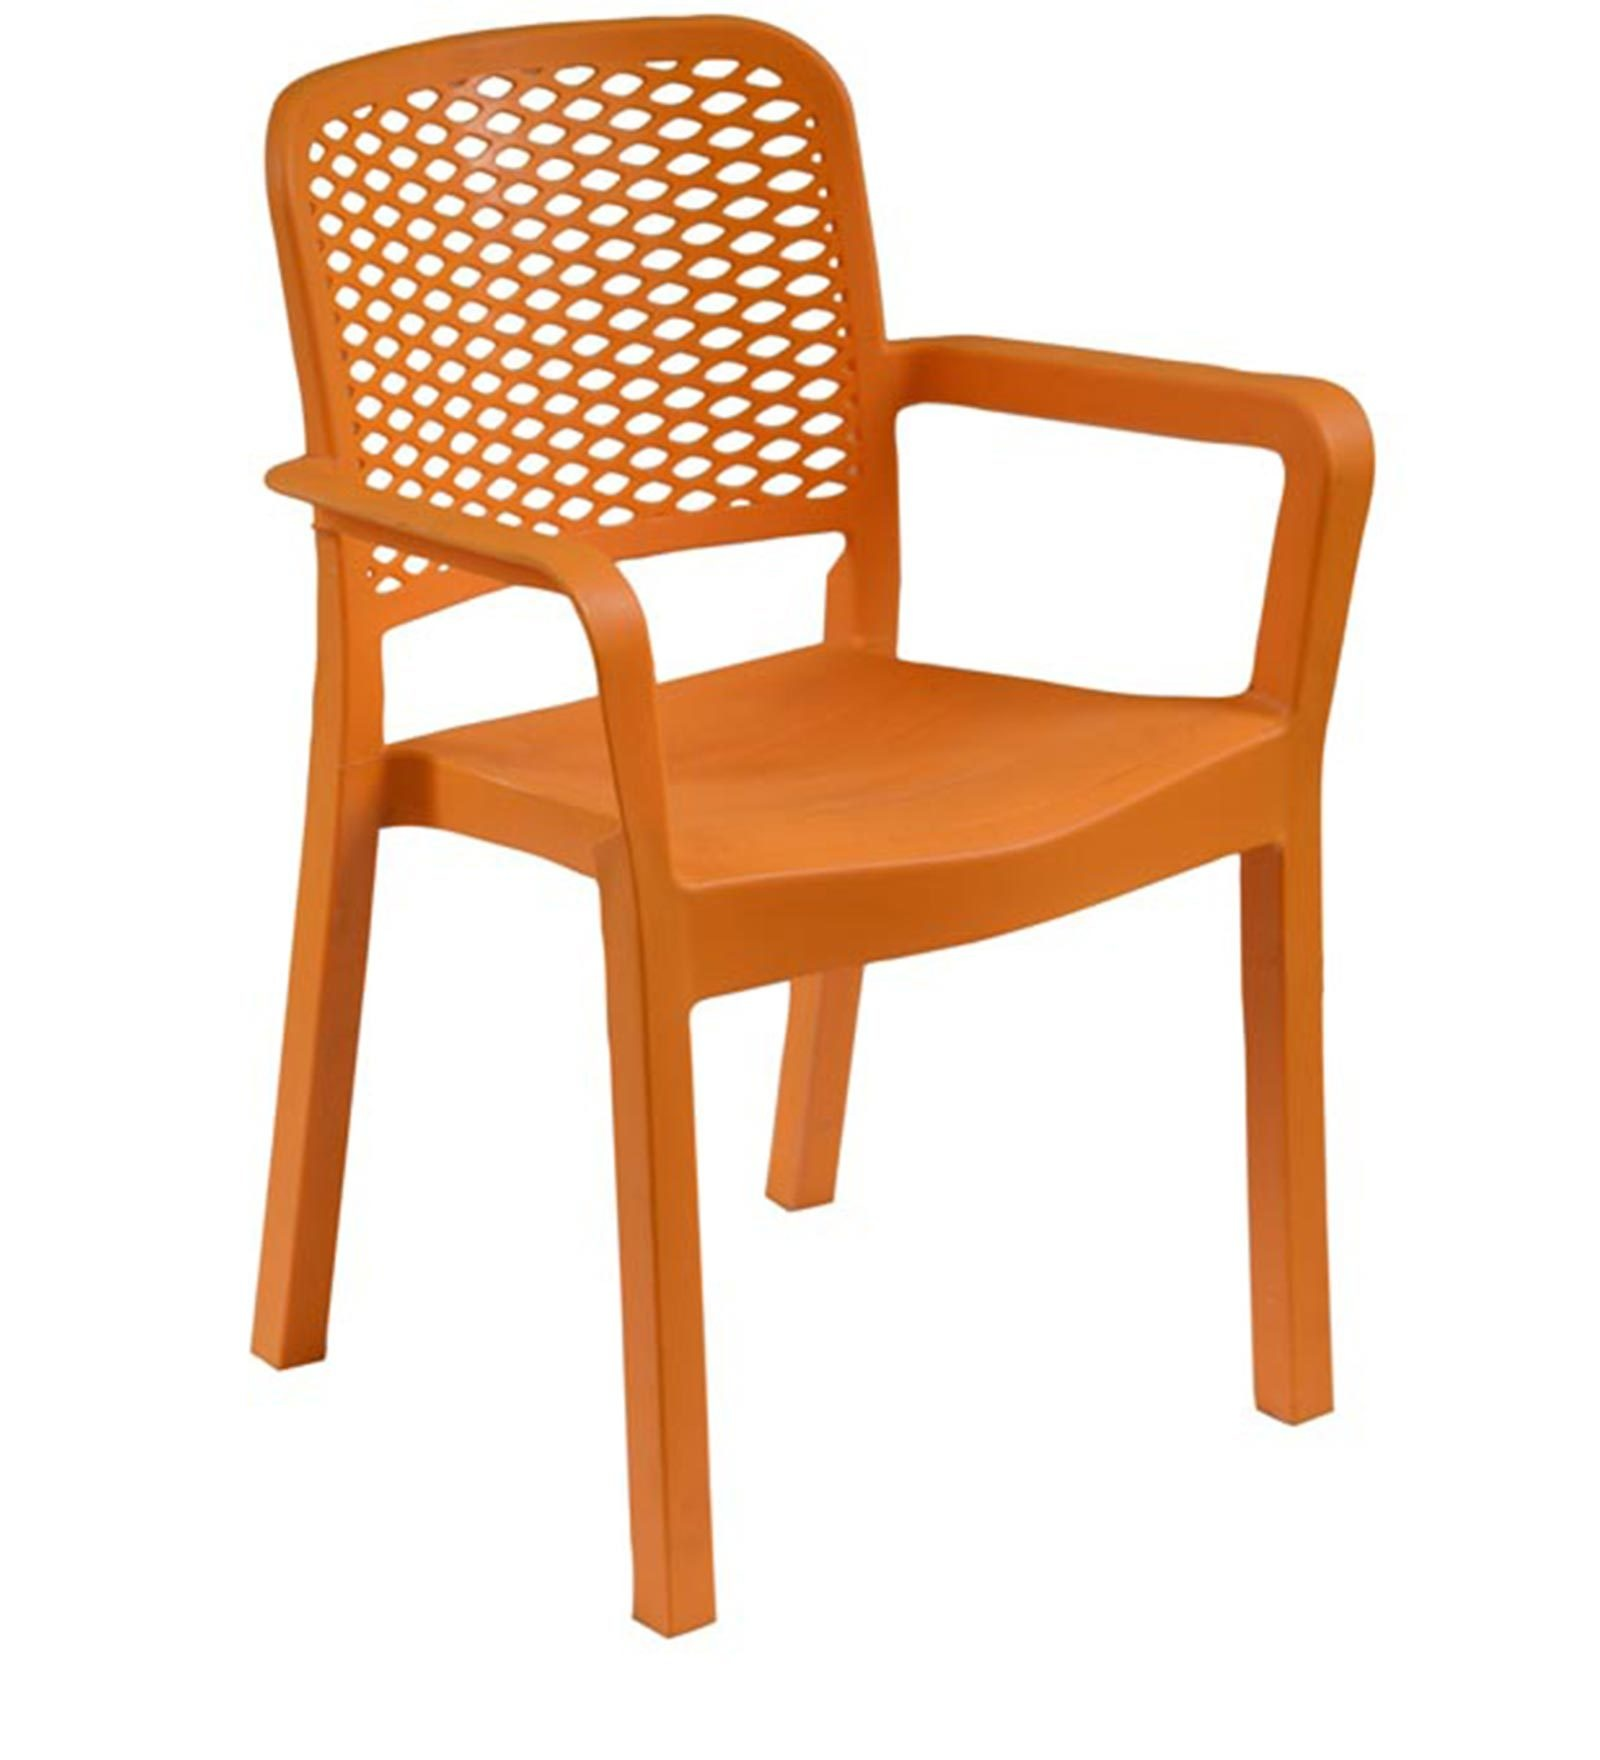Luxury Plastic Chair in Orange Colour by Italica Furniture: (251, 18, 1382, 1637)
